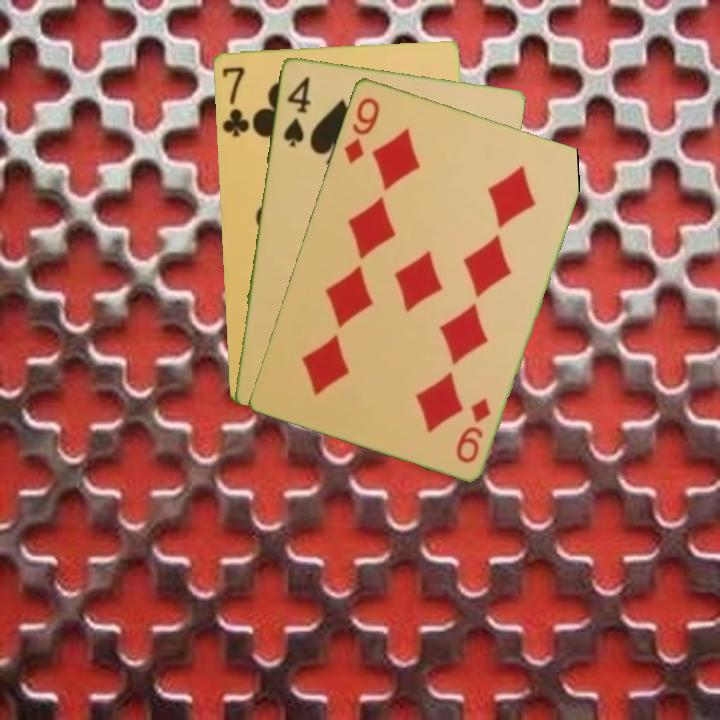4s: (279, 72, 313, 150)
7c: (218, 63, 252, 139)
9d: (340, 93, 382, 166), (452, 394, 494, 466)
